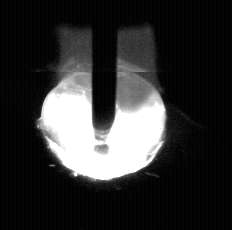arame: (92, 0, 117, 139)
poca: (39, 0, 167, 230)
